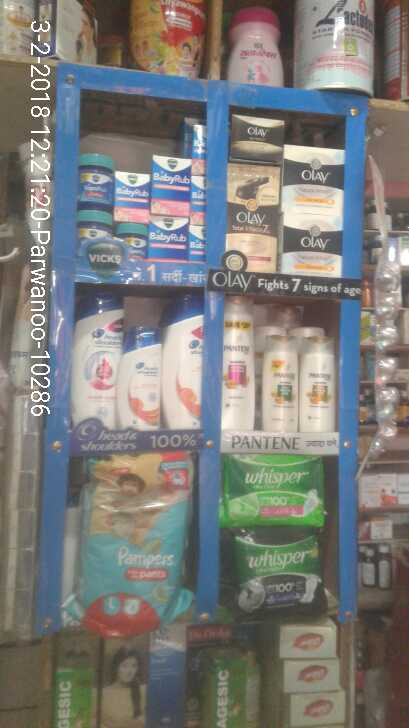vicks: (73, 117, 213, 257)
